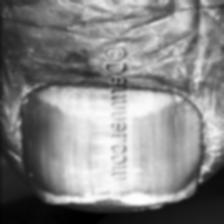Toxin: (20, 98, 204, 204)
